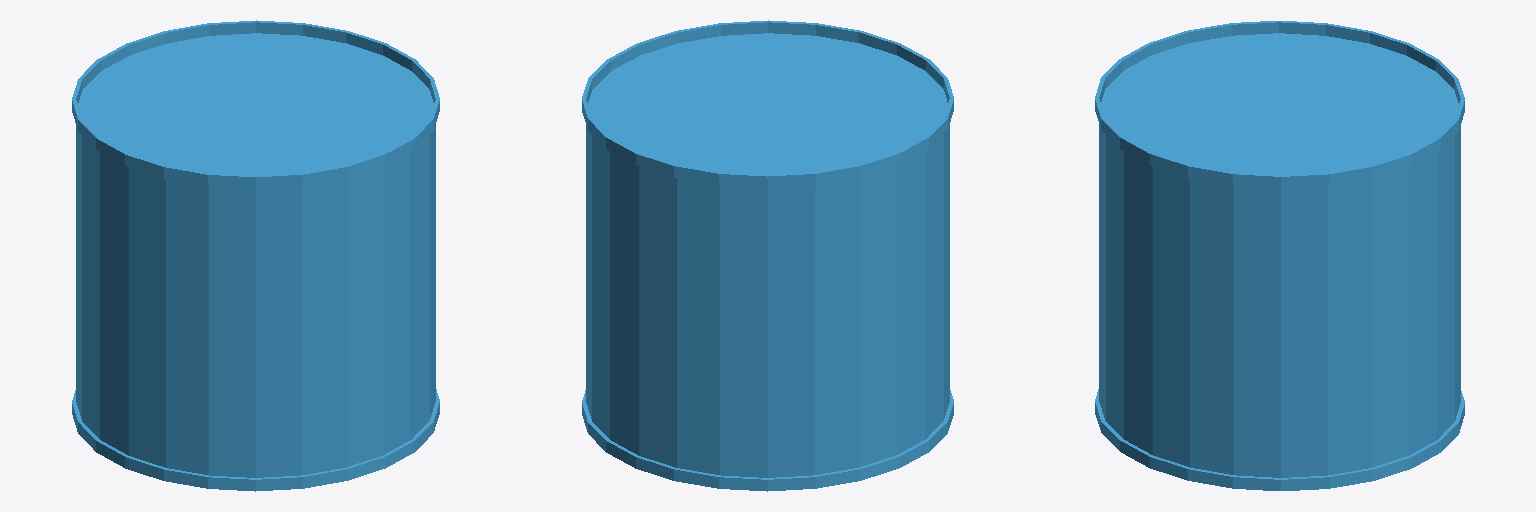
URDF robot description (partnet_9b1f0ddd23357e01a81ec39fd9664e9b):
<robot name="partnet_9b1f0ddd23357e01a81ec39fd9664e9b">
    <link name="base" />
    <link name="link_0">
        <visual name="shape">
            <origin xyz="0 0 0" />
            <geometry>
                <mesh filename="textured_objs/model_normalized.obj" />
            </geometry>
        </visual>
         <collision>
            <origin xyz="0 0 0" />
            <geometry>
                <mesh filename="new_objs/collision-0.obj" />
            </geometry>
        </collision>
         <collision>
            <origin xyz="0 0 0" />
            <geometry>
                <mesh filename="new_objs/collision-1.obj" />
            </geometry>
        </collision>
 </link>
    <joint name="joint_0" type="fixed">
        <origin rpy="1.570796326794897 0 -1.570796326794897" xyz="0 0 0" />
        <child link="link_0" />
        <parent link="base" />
    </joint>
</robot>

--- Facts derived from the render (not from the file) ---
Views: 3 orthographic renders of the robot side by side, from view 1: azimuth 30°, elevation 25°; view 2: azimuth 150°, elevation 25°; view 3: azimuth 270°, elevation 25°.
Robot: partnet_9b1f0ddd23357e01a81ec39fd9664e9b — 2 links, 1 joints (1 fixed); root link base; default pose: every joint at zero.
Links seen in each view (by area): view 1: link_0; view 2: link_0; view 3: link_0.
Link boxes in pixels (left/top/right/bottom): link_0: left=72, top=20, right=439, bottom=491; link_0: left=582, top=20, right=953, bottom=491; link_0: left=1095, top=21, right=1464, bottom=490.
Size in the robot's own frame: 1.43 by 1.43 by 1.34 metres.
Meshes: 1 distinct files referenced, 1 mesh visuals loaded (1 OBJ).